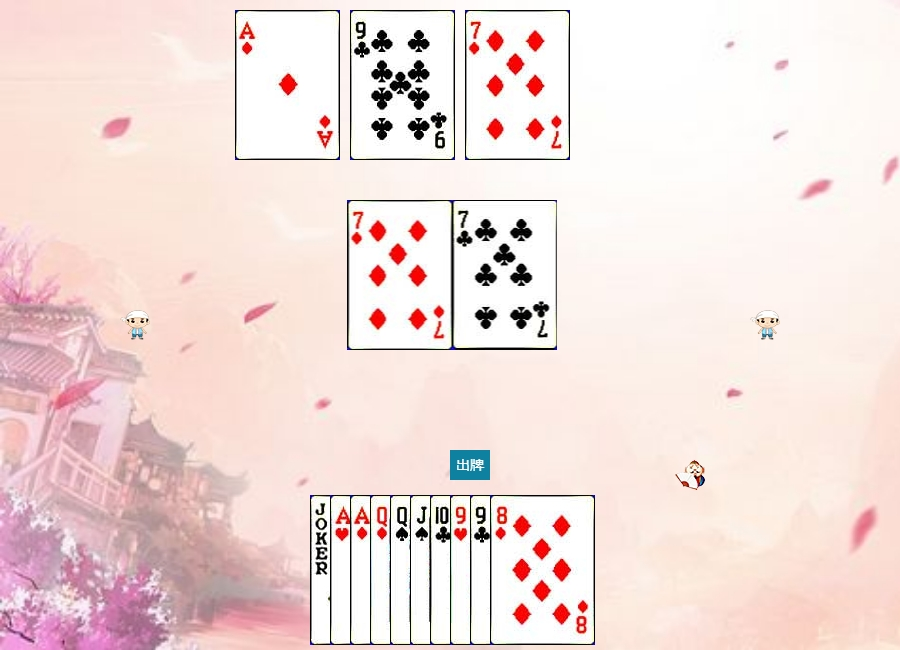10~2: (430, 495, 535, 645)
11~4: (410, 495, 515, 645)
12~1: (370, 495, 475, 645)
12~4: (390, 495, 495, 645)
14~1: (235, 10, 340, 160), (350, 495, 455, 645)
14~3: (330, 495, 435, 645)
17~3: (310, 495, 415, 645)
7~1: (465, 10, 570, 160), (348, 200, 453, 350)
7~2: (453, 200, 558, 350)
8~1: (490, 495, 595, 645)
9~2: (350, 10, 455, 160), (470, 495, 575, 645)
9~3: (450, 495, 555, 645)
